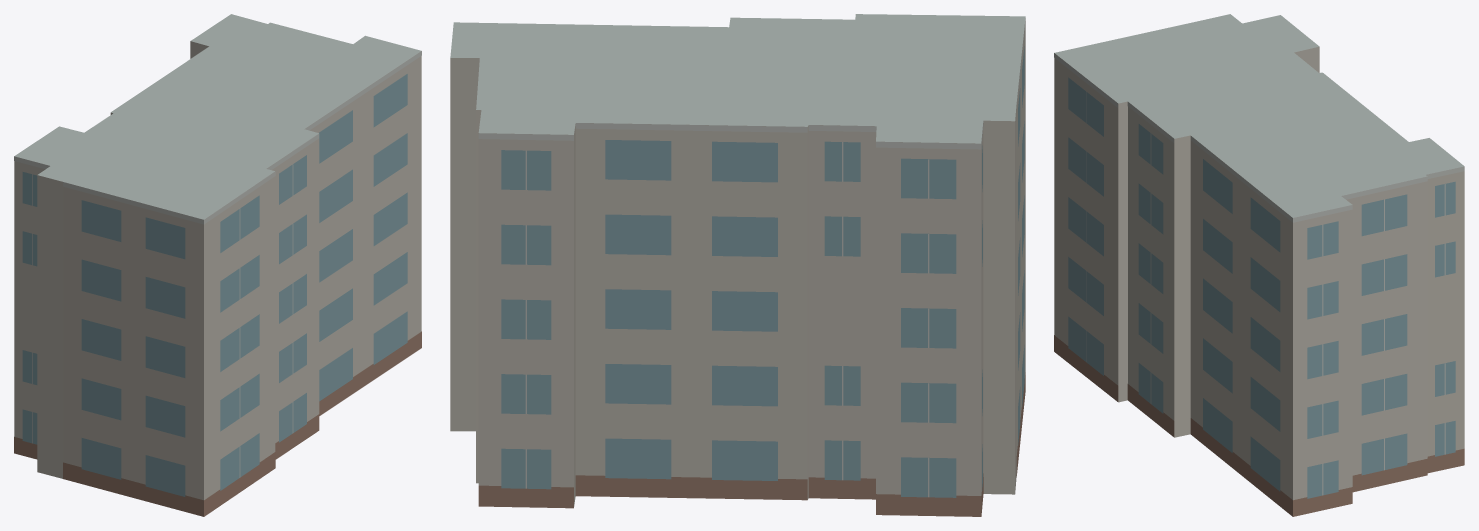
Rendered from survey-upis-32704839.glb.
3 renders of one model, left to right at view 1: azimuth 30°, elevation 25°; view 2: azimuth 150°, elevation 25°; view 3: azimuth 270°, elevation 25°, orthographic. The views are drawn at different scales.
Visible parts, largest first — view 1: survey-upis-32704839.tmp; view 2: survey-upis-32704839.tmp; view 3: survey-upis-32704839.tmp.
Boxes of the visible parts, x1,y1,x2,y2 form: survey-upis-32704839.tmp: [14, 14, 421, 516]; survey-upis-32704839.tmp: [450, 14, 1025, 516]; survey-upis-32704839.tmp: [1054, 14, 1464, 516].
Bounding box in the file's own units: 22.34 × 15.25 × 19.
